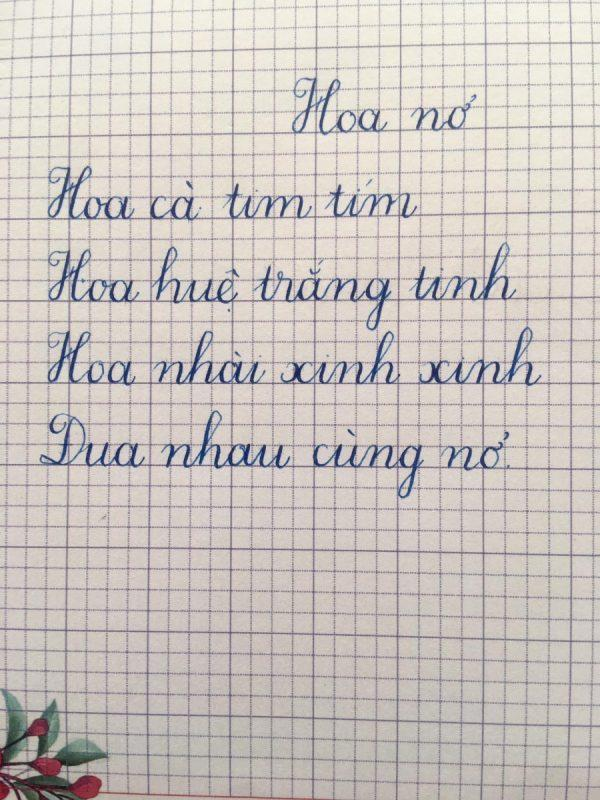text: (34, 407, 513, 502), (44, 239, 519, 334), (41, 322, 547, 391), (42, 162, 421, 222), (288, 73, 479, 139)
